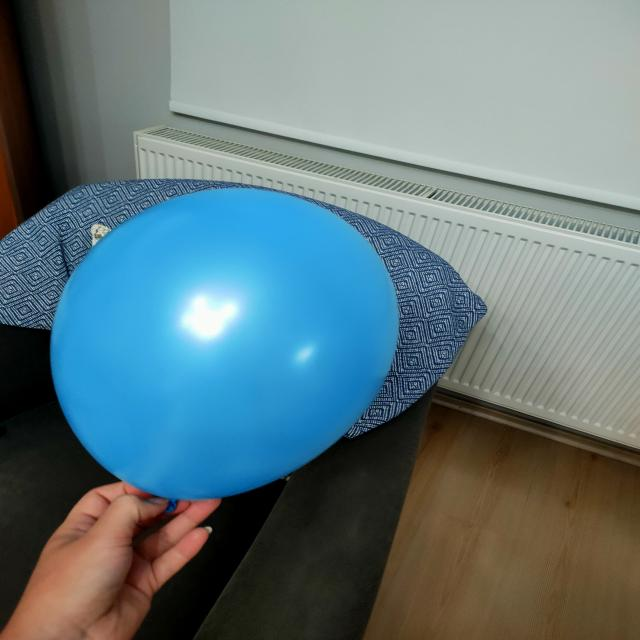blue: (56, 192, 397, 501)
